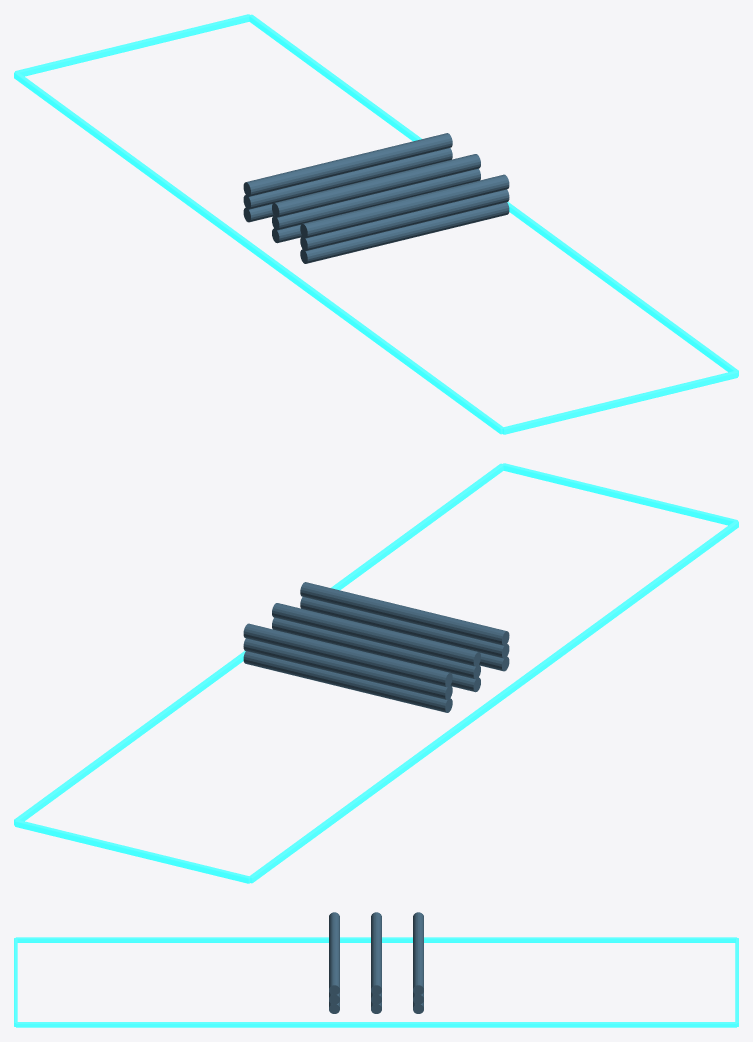
File: rebar-bay-v2-medium.glb
3 renders of one model, top to bottom at view 1: azimuth 30°, elevation 25°; view 2: azimuth 150°, elevation 25°; view 3: azimuth 270°, elevation 25°, orthographic. The views are drawn at different scales.
Visible parts, largest first — view 1: REBAR-BAY-13-edge.004, REBAR-BAY-13-edge.005, REBAR-BAY-13-rebar-bundle.017, REBAR-BAY-13-rebar-bundle.011, REBAR-BAY-13-rebar-bundle.014, REBAR-BAY-13-rebar-bundle.009, REBAR-BAY-13-rebar-bundle.010, REBAR-BAY-13-rebar-bundle.016, REBAR-BAY-13-rebar-bundle.013, REBAR-BAY-13-edge.006, REBAR-BAY-13-edge.007; view 2: REBAR-BAY-13-edge.004, REBAR-BAY-13-edge.005, REBAR-BAY-13-rebar-bundle.011, REBAR-BAY-13-rebar-bundle.017, REBAR-BAY-13-rebar-bundle.014, REBAR-BAY-13-rebar-bundle.015, REBAR-BAY-13-rebar-bundle.016, REBAR-BAY-13-rebar-bundle.010, REBAR-BAY-13-rebar-bundle.013, REBAR-BAY-13-edge.007, REBAR-BAY-13-edge.006; view 3: REBAR-BAY-13-edge.005, REBAR-BAY-13-edge.004, REBAR-BAY-13-rebar-bundle.014, REBAR-BAY-13-rebar-bundle.011, REBAR-BAY-13-rebar-bundle.017, REBAR-BAY-13-edge.006, REBAR-BAY-13-edge.007.
Boxes of the visible parts, x1,y1,x2,y2 form: REBAR-BAY-13-edge.004: (14,72,503,434); REBAR-BAY-13-edge.005: (249,14,738,376); REBAR-BAY-13-rebar-bundle.017: (243,133,452,196); REBAR-BAY-13-rebar-bundle.011: (300,174,509,238); REBAR-BAY-13-rebar-bundle.014: (272,154,480,217); REBAR-BAY-13-rebar-bundle.009: (300,202,509,263); REBAR-BAY-13-rebar-bundle.010: (300,189,509,251); REBAR-BAY-13-rebar-bundle.016: (243,148,452,209); REBAR-BAY-13-rebar-bundle.013: (272,168,480,230); REBAR-BAY-13-edge.006: (502,370,737,434); REBAR-BAY-13-edge.007: (15,14,249,76); REBAR-BAY-13-edge.004: (249,521,738,883); REBAR-BAY-13-edge.005: (14,463,503,825); REBAR-BAY-13-rebar-bundle.011: (300,582,509,645); REBAR-BAY-13-rebar-bundle.017: (243,623,452,687); REBAR-BAY-13-rebar-bundle.014: (272,603,480,666); REBAR-BAY-13-rebar-bundle.015: (243,651,452,712); REBAR-BAY-13-rebar-bundle.016: (243,638,452,700); REBAR-BAY-13-rebar-bundle.010: (300,597,509,658); REBAR-BAY-13-rebar-bundle.013: (272,617,480,679); REBAR-BAY-13-edge.007: (15,819,250,883); REBAR-BAY-13-edge.006: (503,463,737,525); REBAR-BAY-13-edge.005: (15,1022,737,1027); REBAR-BAY-13-edge.004: (16,937,736,942); REBAR-BAY-13-rebar-bundle.014: (371,912,381,995); REBAR-BAY-13-rebar-bundle.011: (329,912,339,994); REBAR-BAY-13-rebar-bundle.017: (413,912,423,994); REBAR-BAY-13-edge.006: (14,938,17,1026); REBAR-BAY-13-edge.007: (735,938,738,1026).
Bounding box in the file's own units: 10.2 × 1.98 × 36.22.
